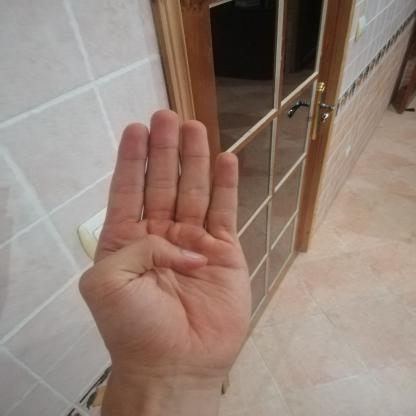KAAF: (62, 96, 269, 393)
